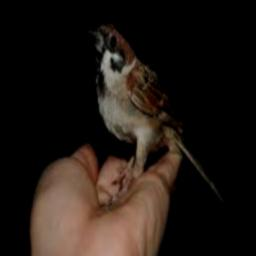Sparrow: (85, 20, 224, 201)
